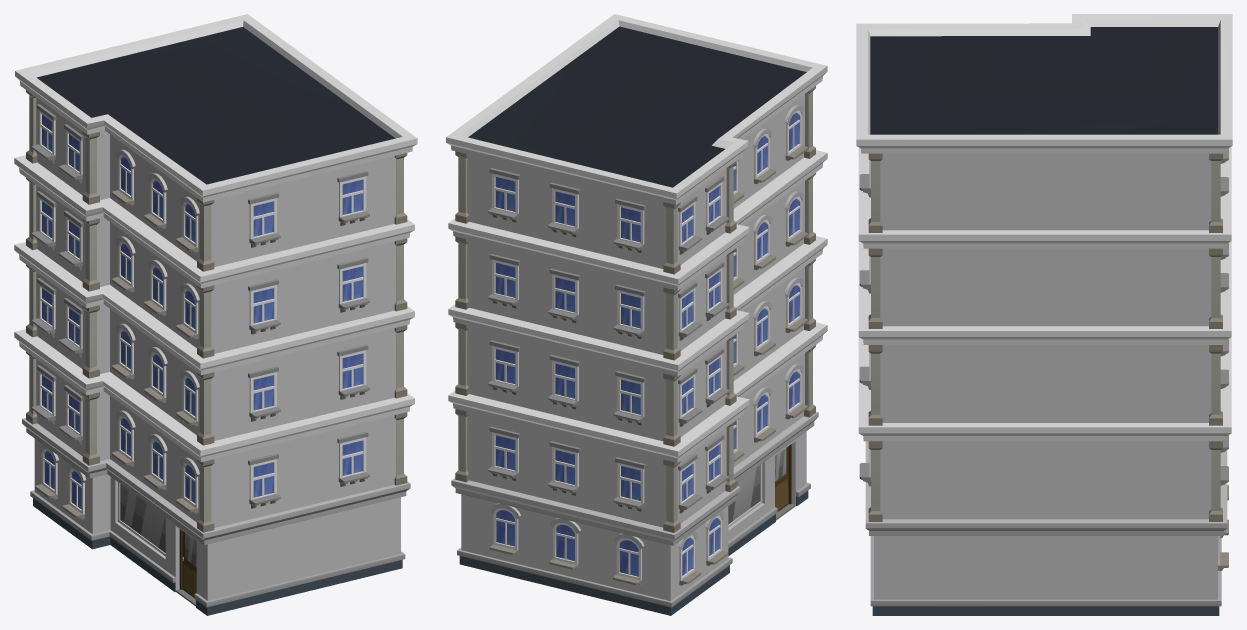
File: Building_1_5_G.fbx
3 renders of one model, left to right at view 1: azimuth 30°, elevation 25°; view 2: azimuth 150°, elevation 25°; view 3: azimuth 270°, elevation 25°, orthographic. The views are drawn at different scales.
Visible parts, largest first — view 1: Building_1_5_G; view 2: Building_1_5_G; view 3: Building_1_5_G.
Boxes of the visible parts, <box> form: Building_1_5_G: <box>14,14,417,615</box>; Building_1_5_G: <box>446,14,827,615</box>; Building_1_5_G: <box>856,14,1232,615</box>.
Size of the model in its own units: 847 by 1501 by 1067.
